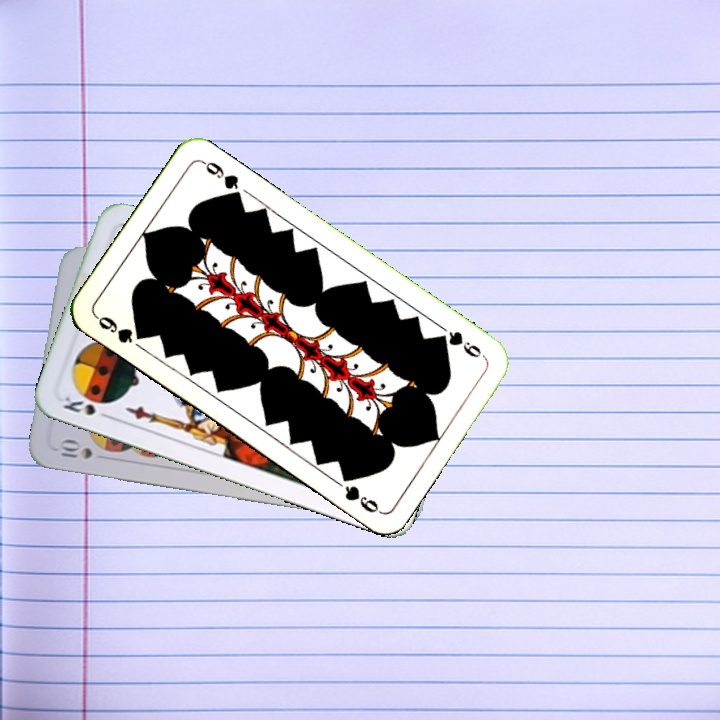G9: (91, 311, 149, 346), (433, 327, 488, 361)
S10: (55, 437, 95, 462)
SK: (58, 392, 115, 422)
